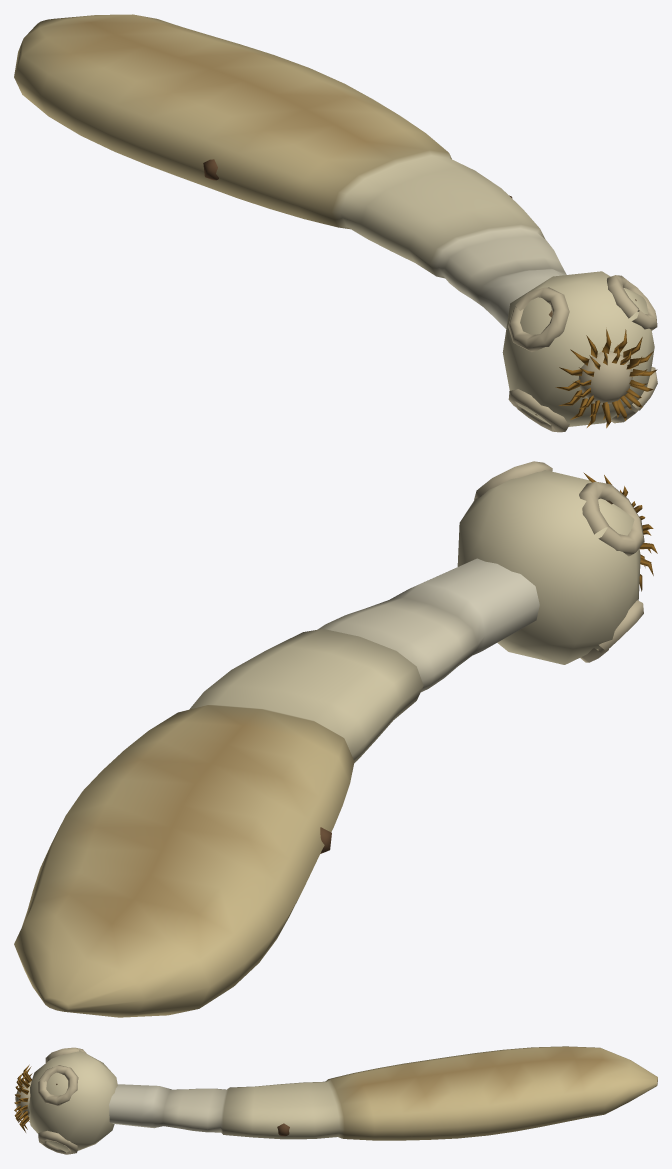
File: Echinococcus.fbx
The picture shows the model from 3 angles, top to bottom: view 1: azimuth 30°, elevation 25°; view 2: azimuth 150°, elevation 25°; view 3: azimuth 270°, elevation 25°; orthographic projection. The views are drawn at different scales.
Parts seen in each view (by area): view 1: Echinococcus; view 2: Echinococcus; view 3: Echinococcus.
Part boxes in pixels (<box>): Echinococcus: <box>14,14,657,432</box>; Echinococcus: <box>14,461,657,1017</box>; Echinococcus: <box>14,1046,657,1154</box>.
Size of the model in its own units: 0.4221 by 0.2279 by 1.52.
